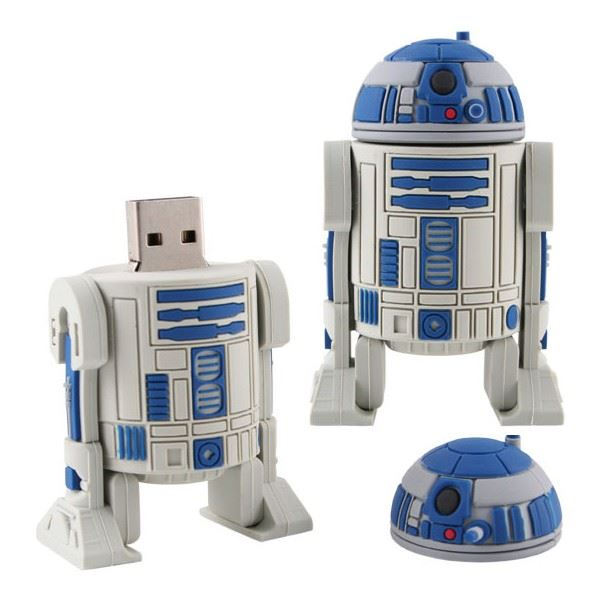r2d2: (317, 37, 563, 424), (49, 262, 312, 554), (391, 437, 563, 563)
